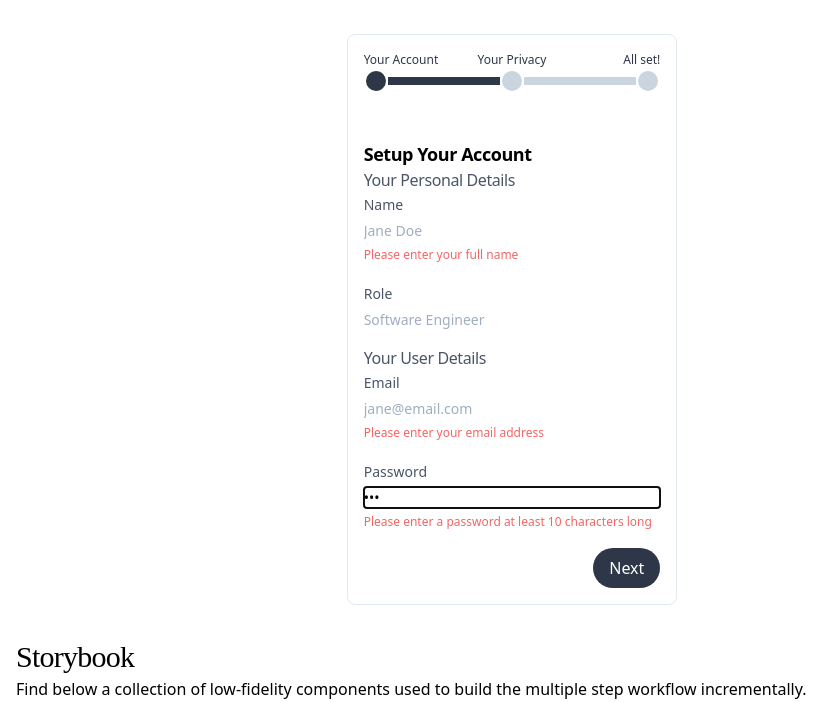
Test case: Signup Workflow › When the user provides invalid information › When they attempt to choose a password › that is missing at least a number
(page scrolled)
Type "a very long password" into the password field labelled "Password Please enter a password at least 10 characters long". click: [513, 498]
box: [364,487,661,508]
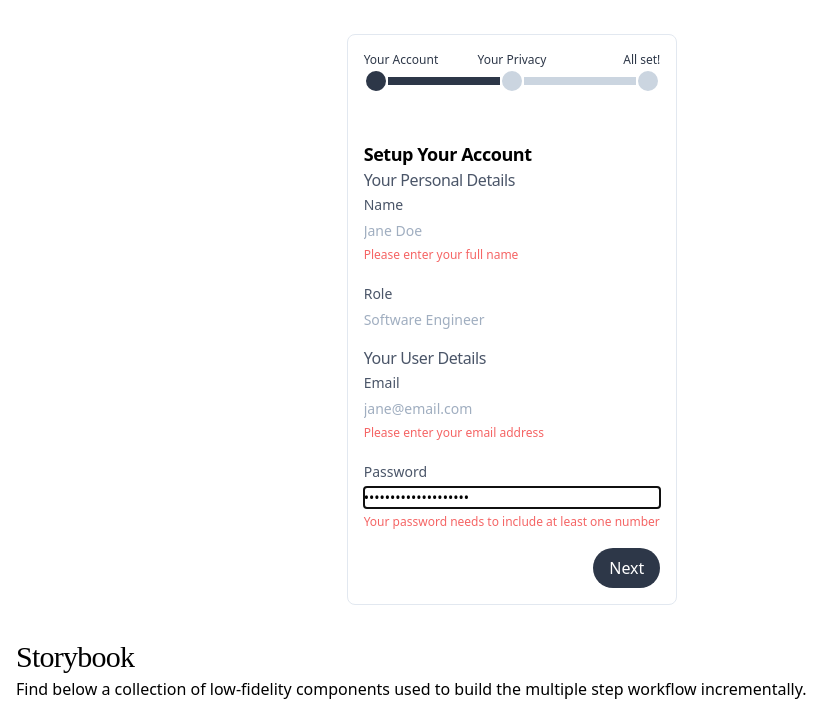
Now the text "Your password needs to include at least one number" is shown, box [364,513,660,530]
